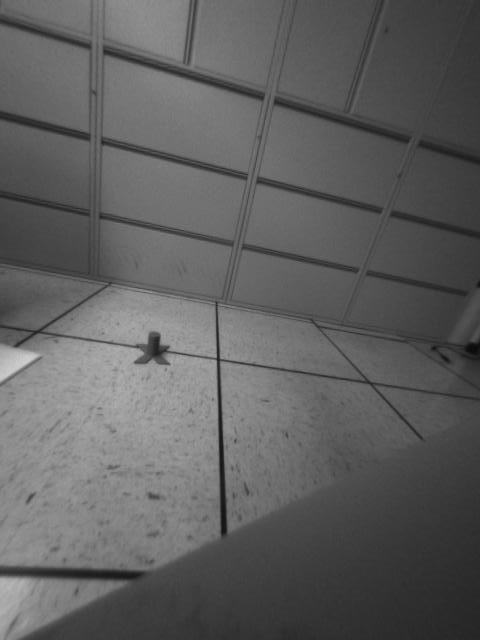X: (133, 331, 174, 370)
